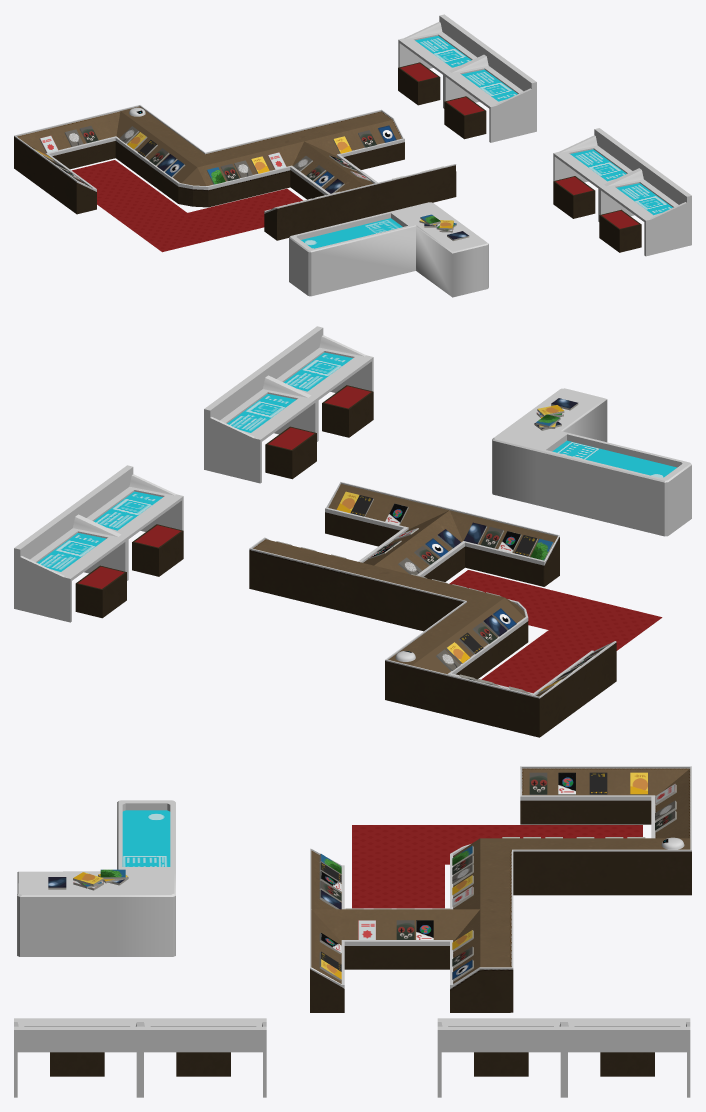
Rendered from Book Tile.fbx.
3 renders of one model, top to bottom at view 1: azimuth 30°, elevation 25°; view 2: azimuth 150°, elevation 25°; view 3: azimuth 270°, elevation 25°, orthographic. The views are drawn at different scales.
Visible parts, largest first — view 1: BookStore002; view 2: BookStore002; view 3: BookStore002.
Part boxes in pixels (x1,y1,x2,y2): BookStore002: [14, 14, 691, 297]; BookStore002: [14, 326, 691, 737]; BookStore002: [14, 766, 691, 1097].
Size of the model in its own units: 355 by 45.1 by 355.
1 material, 1 textured.
